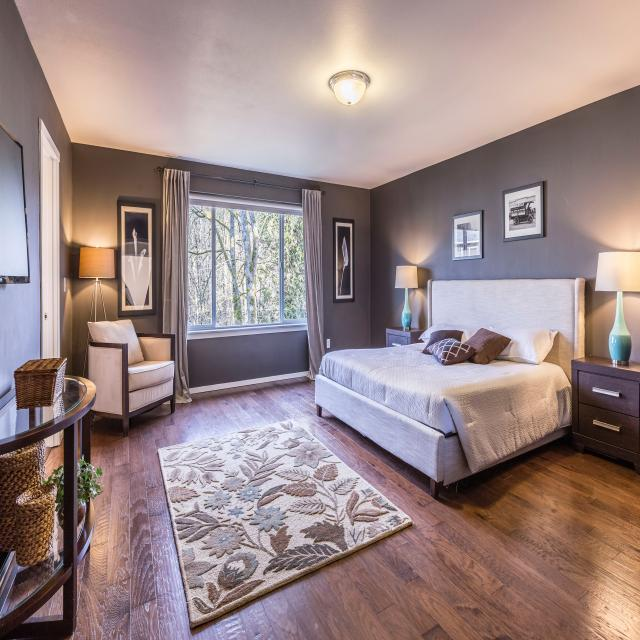floor: (63, 376, 640, 640), (7, 561, 61, 611), (31, 586, 62, 616)
